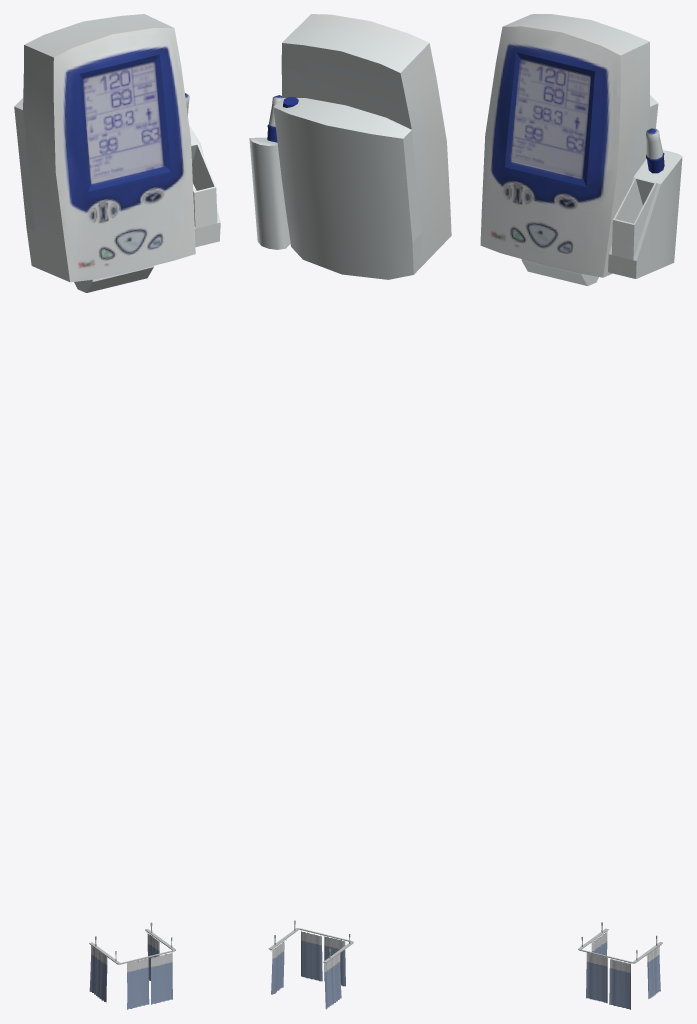
3 views of the same model, side by side, from view 1: azimuth 30°, elevation 25°; view 2: azimuth 150°, elevation 25°; view 3: azimuth 330°, elevation 25° (orthographic). The views are drawn at different scales.
Parts seen in each view (by area): view 1: defaultMaterial.001, F_Curtain, L_Curtain; view 2: defaultMaterial.001, F_Curtain, L_Curtain, R_Curtain; view 3: defaultMaterial.001, F_Curtain, R_Curtain.
Boxes of the visible parts, x1,y1,x2,y2 form: defaultMaterial.001: [14, 14, 220, 292]; F_Curtain: [127, 953, 172, 1009]; L_Curtain: [89, 945, 107, 1002]; defaultMaterial.001: [249, 14, 451, 279]; F_Curtain: [301, 931, 345, 986]; L_Curtain: [324, 953, 341, 1009]; R_Curtain: [271, 942, 284, 994]; defaultMaterial.001: [480, 14, 682, 285]; F_Curtain: [586, 952, 630, 1009]; R_Curtain: [647, 946, 660, 998].
Bounding box in the file's own units: 2402 × 13787 × 1644.
2 materials, 2 textured.
